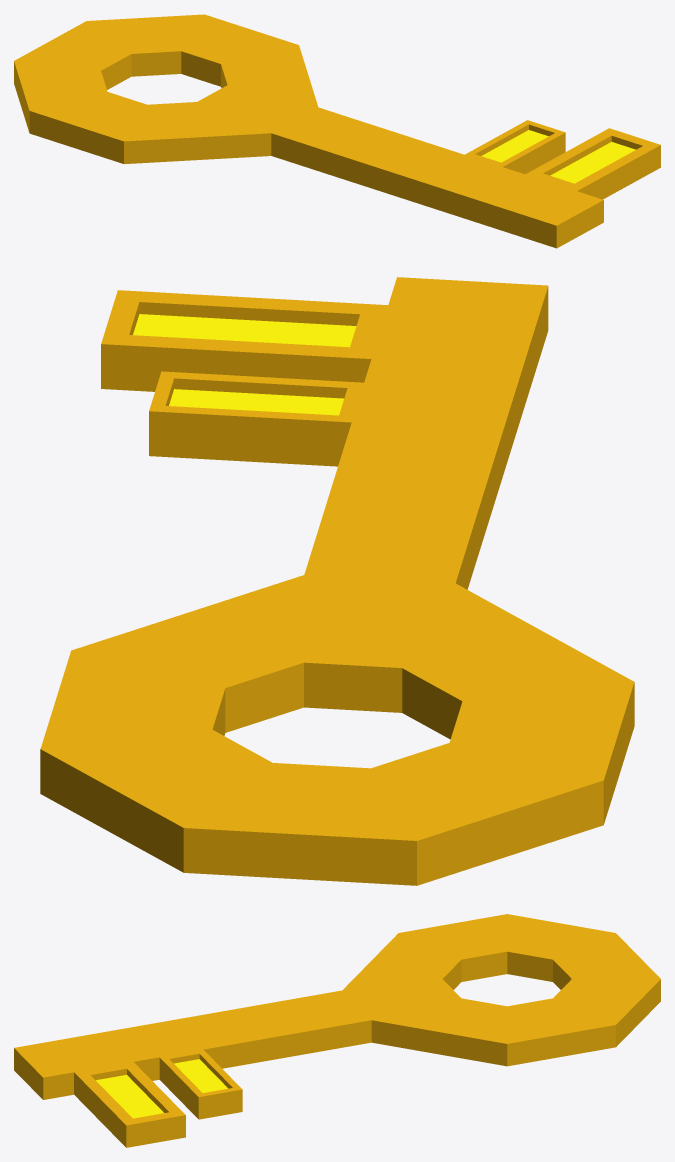
The model's file is Key.fbx.
The picture shows the model from 3 angles, top to bottom: view 1: azimuth 30°, elevation 25°; view 2: azimuth 150°, elevation 25°; view 3: azimuth 270°, elevation 25°; orthographic projection. The views are drawn at different scales.
Parts seen in each view (by area): view 1: Tube; view 2: Tube; view 3: Tube.
Part boxes in pixels (x1=…): Tube: x1=14, y1=14, x2=660, y2=248; Tube: x1=40, y1=277, x2=634, y2=885; Tube: x1=14, y1=914, x2=660, y2=1147.
Size of the model in its own units: 1003 by 49.63 by 1297.
